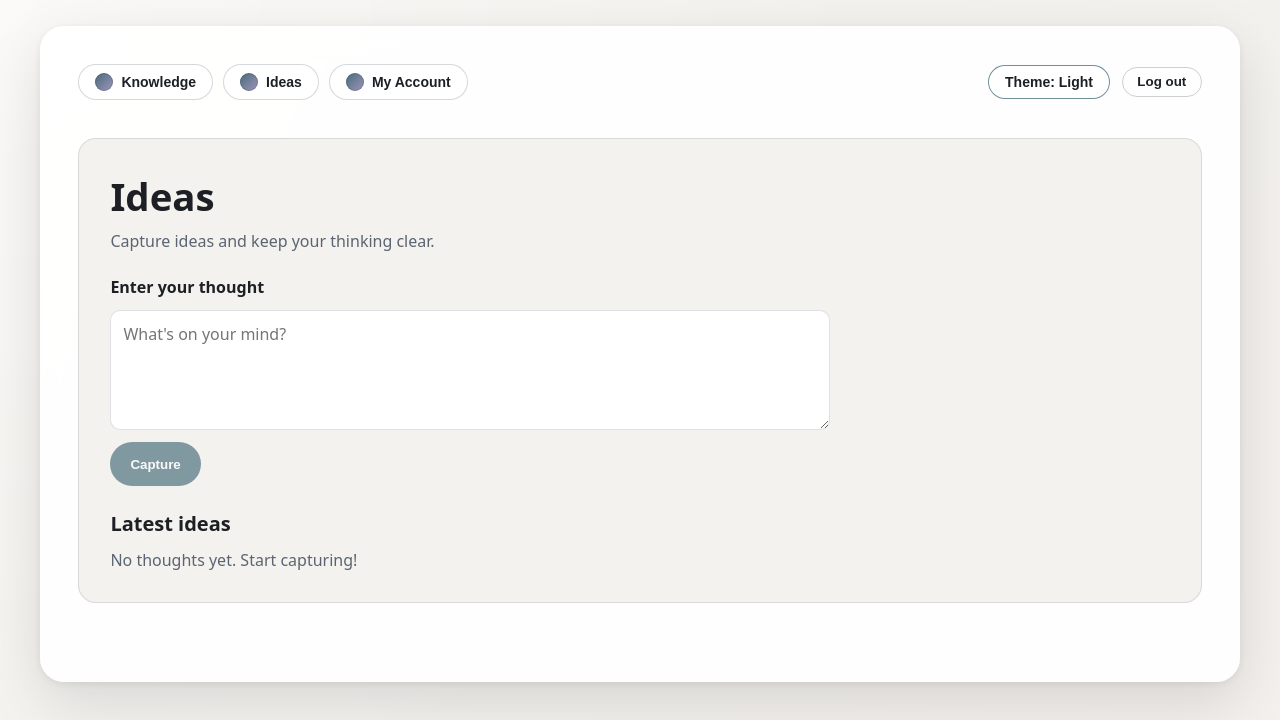
it: Logout flow › clears auth storage and redirects to login on logout
The width and height of the screenshot is (1280, 720).
Click the button "Log out" at (1162, 82), box [1122,67,1202,97]
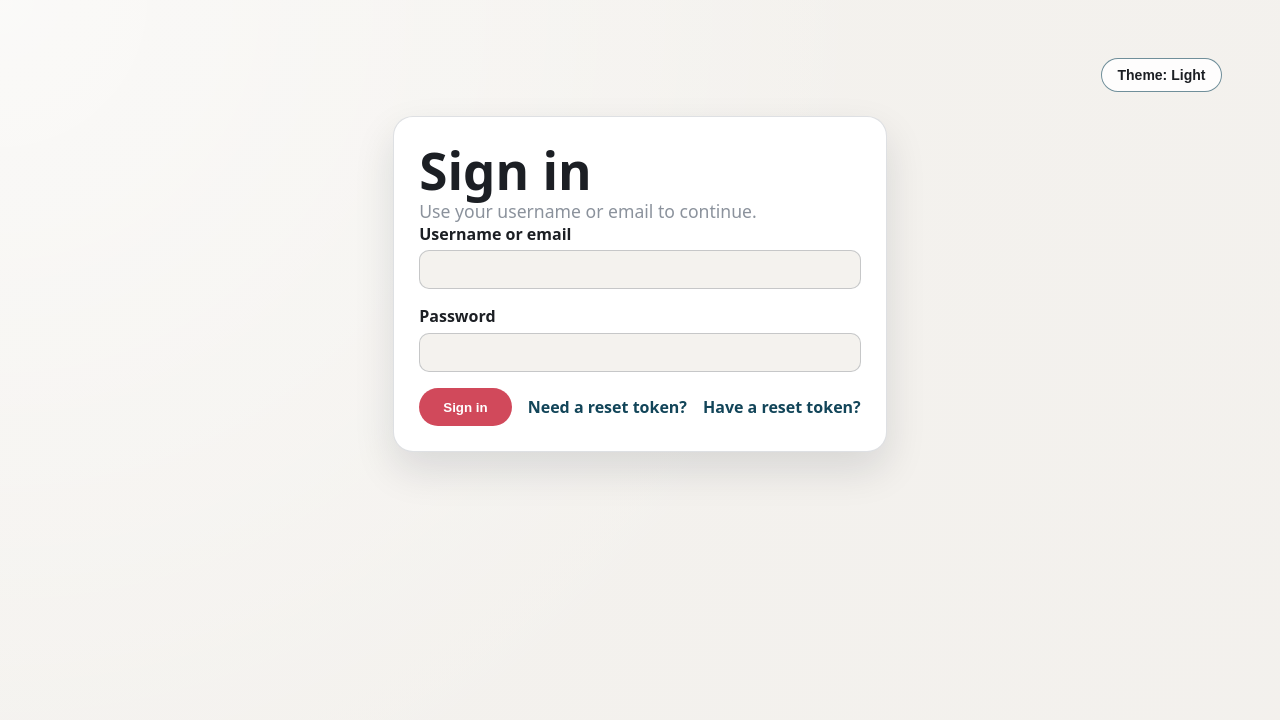
Result: the heading "Sign in" is shown at [419,135,592,205]
